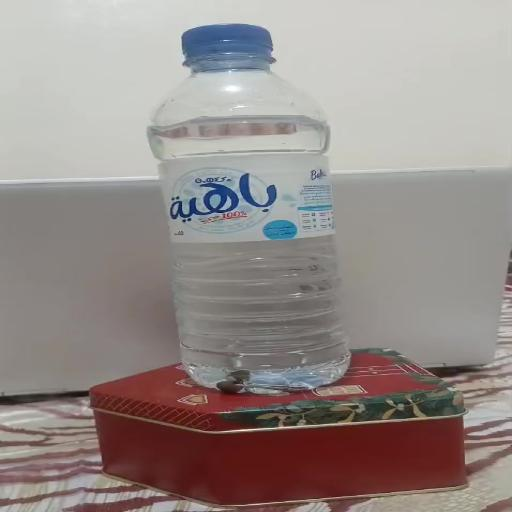bouteille conformite: (136, 34, 392, 394)
bouteille non conformite: (145, 25, 365, 392)
